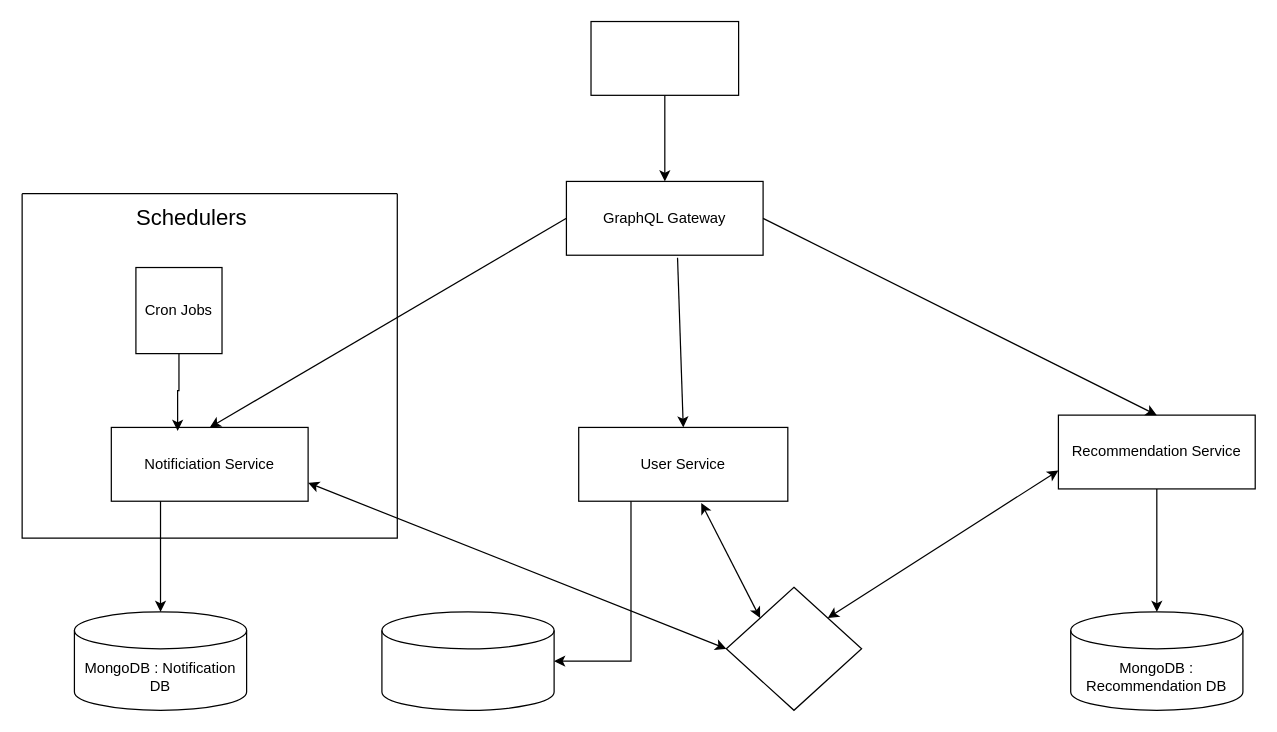
Image size: 1277x732. Some labels were removed from this diagram. Each missing label, with the centre of its shape:
CLIENT: (x=664, y=57)
MongoDB : User DB: (x=467, y=660)
RabbitMQ: (x=793, y=648)
